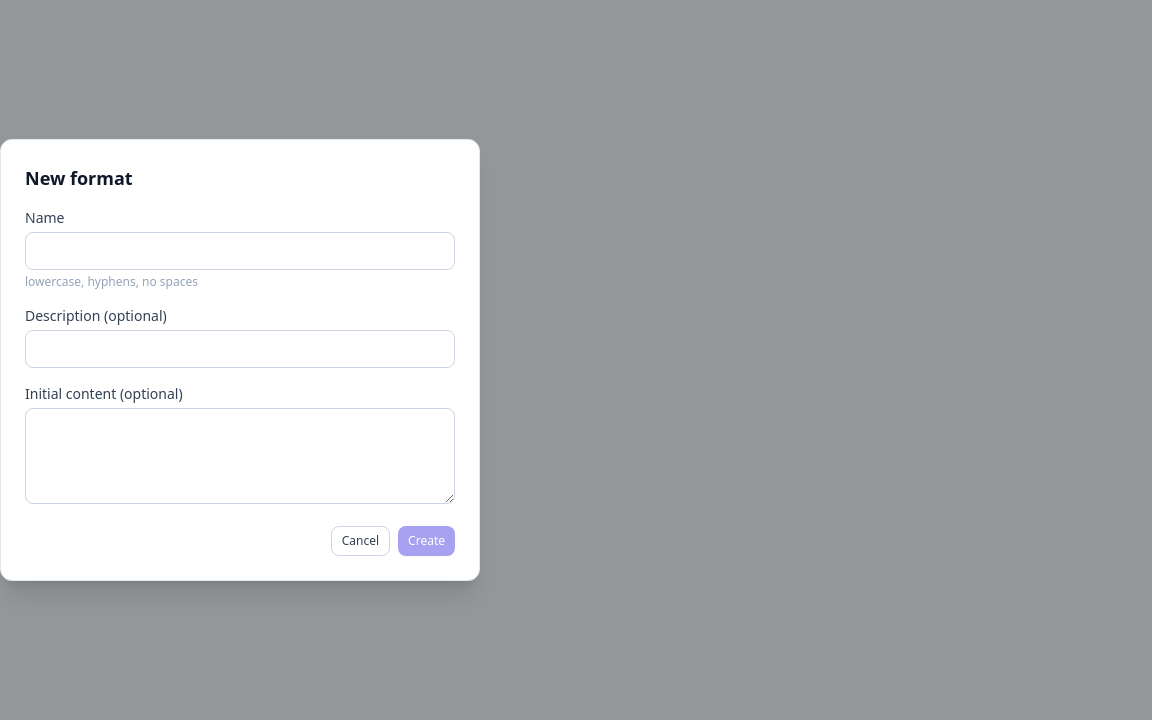
Test: NewEntryDialog › disables submit until name valid (formats)
This screenshot has width=1152, height=720.
Expected: the button "Create" is disabled, [398,526,455,556]
Type "Foo Bar" into the field labelled "Name" at [240, 251], box [25,232,455,270]
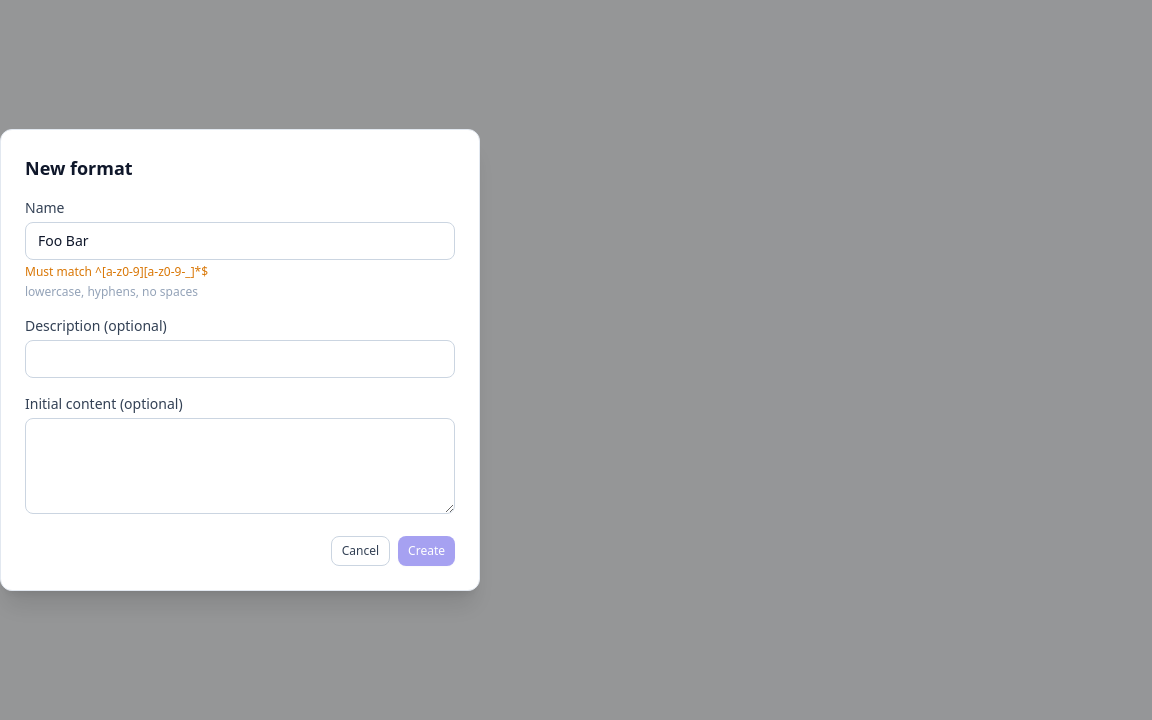
Expected: the button "Create" is disabled, [398,536,455,566]
Replace the text in the field labelled "Name" with "linkedin-post" at [240, 241], box [25,222,455,260]
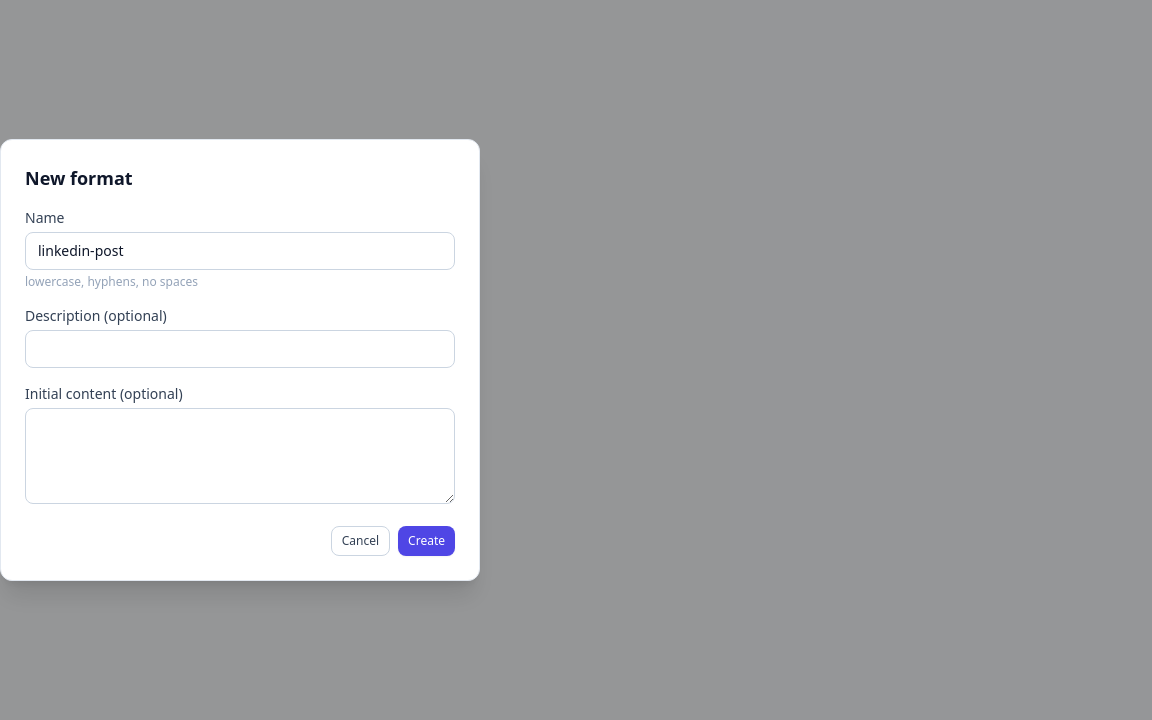
Result: the button "Create" is enabled at [398,526,455,556]
